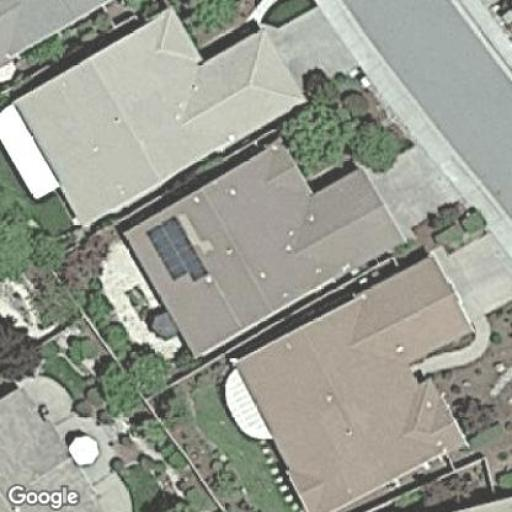solar-panel: (147, 216, 211, 287)
